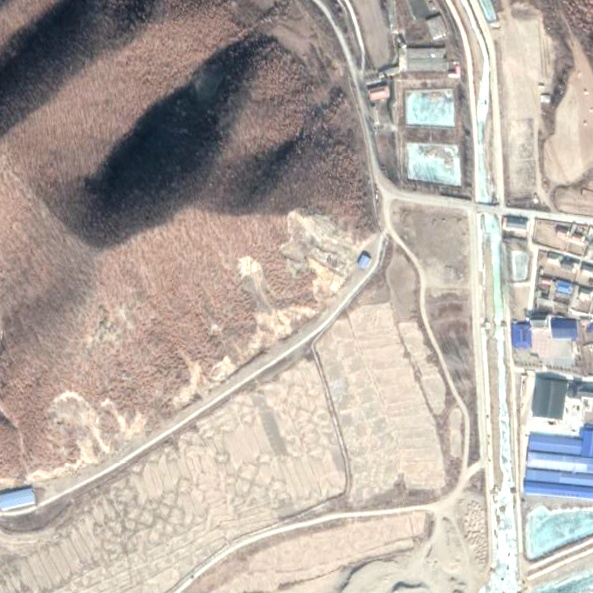slope: (20, 205, 369, 495), (423, 256, 470, 298)
